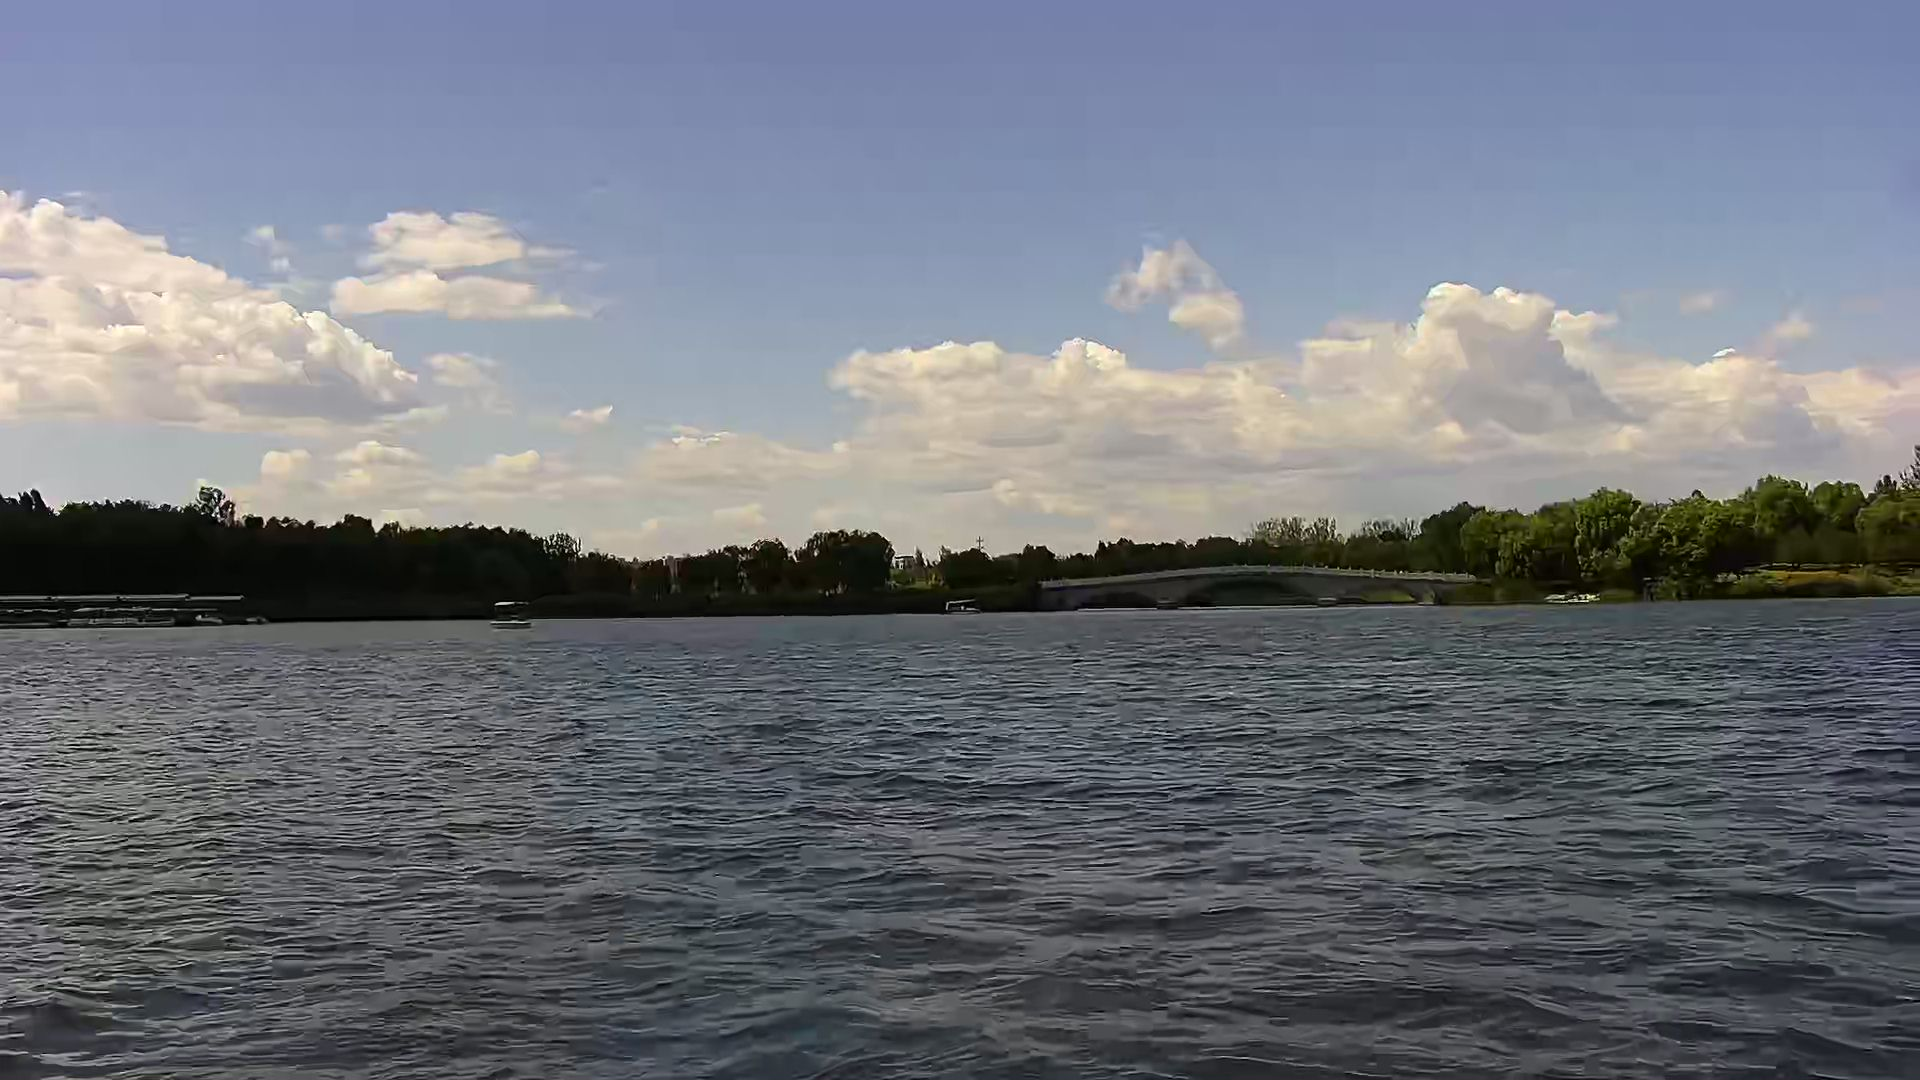boat: (489, 593, 543, 634)
bridge: (1040, 562, 1482, 607)
harbor: (1, 589, 251, 634)
